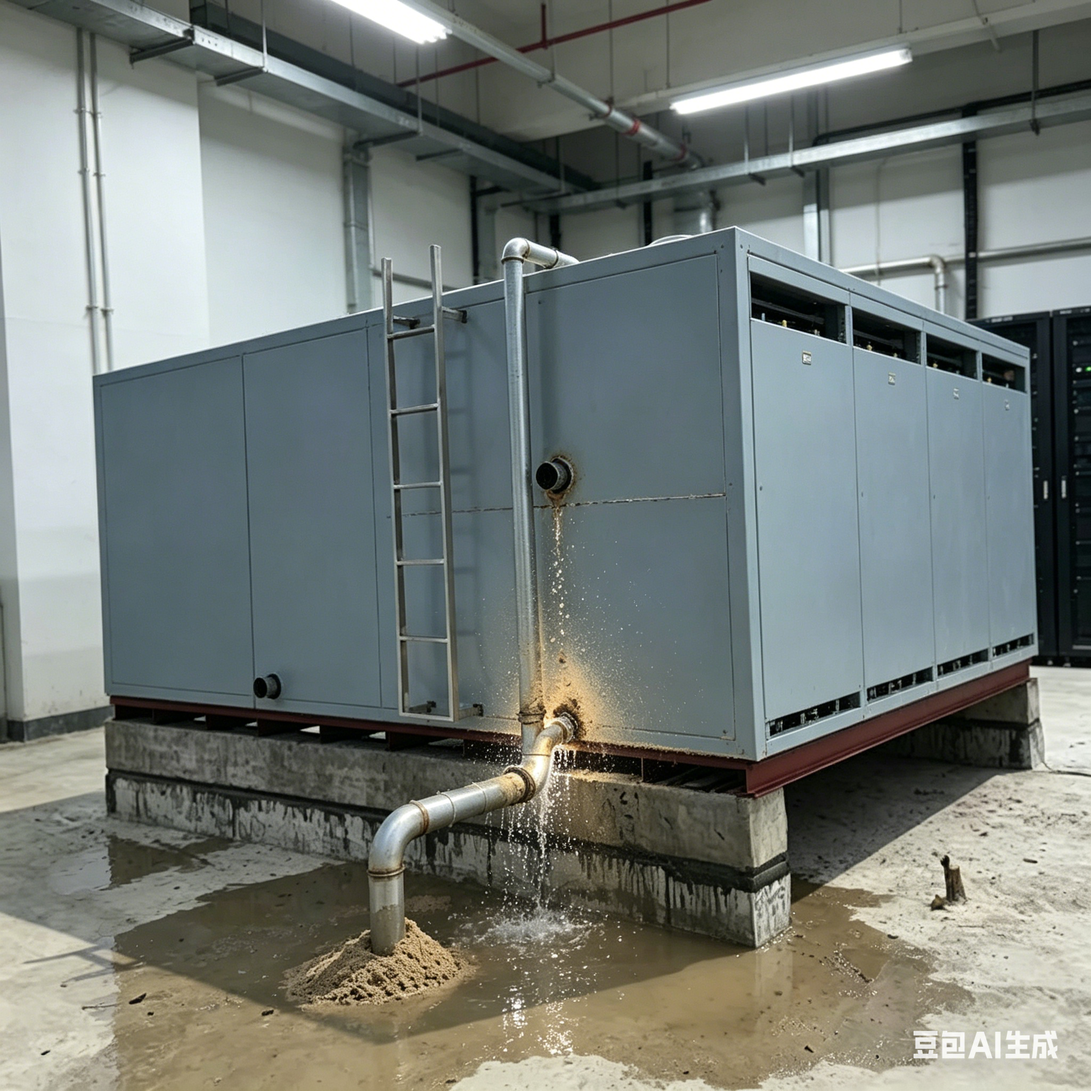Leakage: (120, 906, 469, 1091), (493, 465, 598, 1063), (622, 913, 971, 1085), (58, 834, 183, 890)
